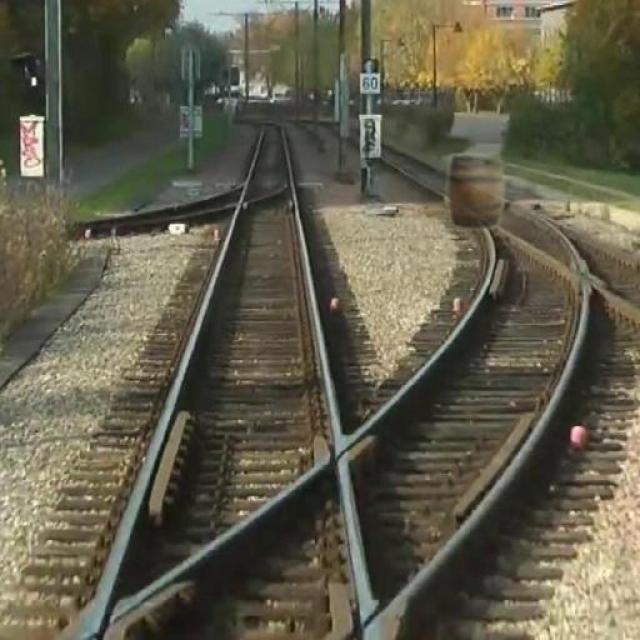Other_objects: (441, 149, 514, 232)
